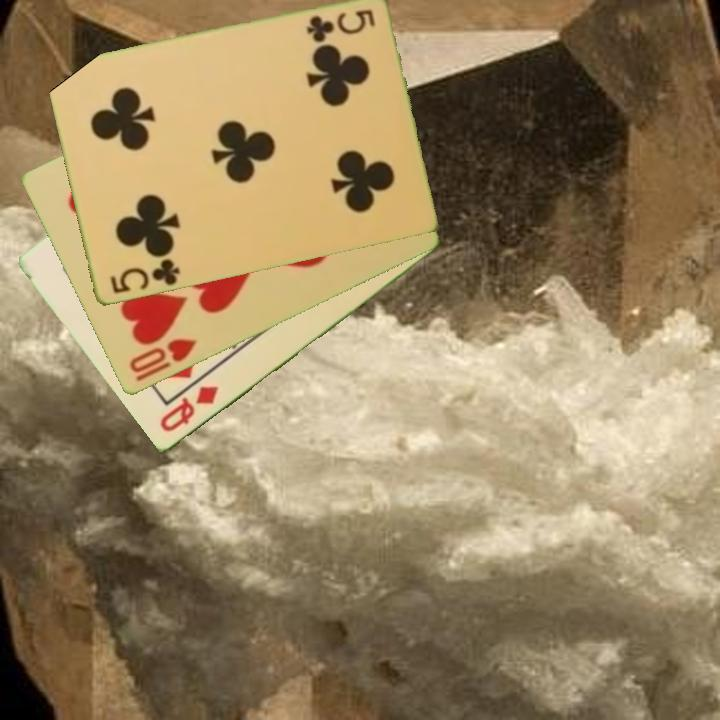10h: (125, 335, 200, 385)
5c: (106, 256, 182, 297), (302, 6, 378, 45)
Qd: (156, 382, 222, 436)
